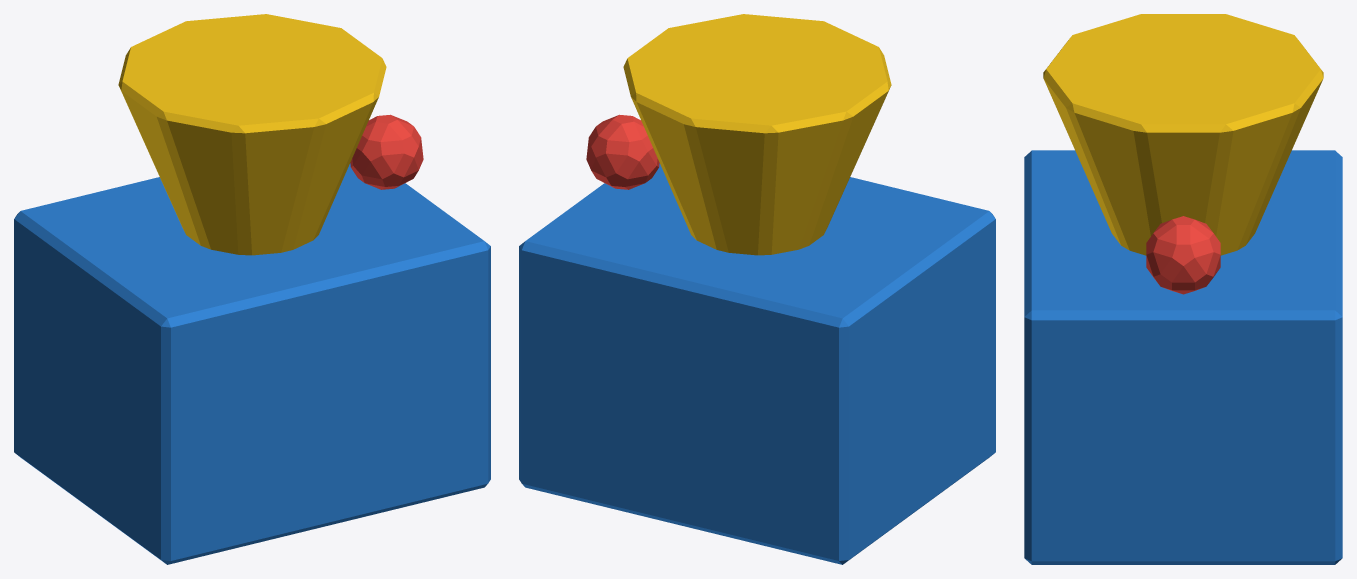
The model's file is celebration_machine.glb.
The picture shows the model from 3 angles, left to right: view 1: azimuth 30°, elevation 25°; view 2: azimuth 150°, elevation 25°; view 3: azimuth 270°, elevation 25°; orthographic projection. The views are drawn at different scales.
Visible parts, largest first — view 1: celebration_machine; view 2: celebration_machine; view 3: celebration_machine.
Part boxes in pixels (bbox=[...]): celebration_machine: bbox=[14, 14, 490, 564]; celebration_machine: bbox=[519, 14, 995, 564]; celebration_machine: bbox=[1024, 14, 1342, 564].
Size of the model in its own units: 0.4217 by 0.49 by 0.34.
